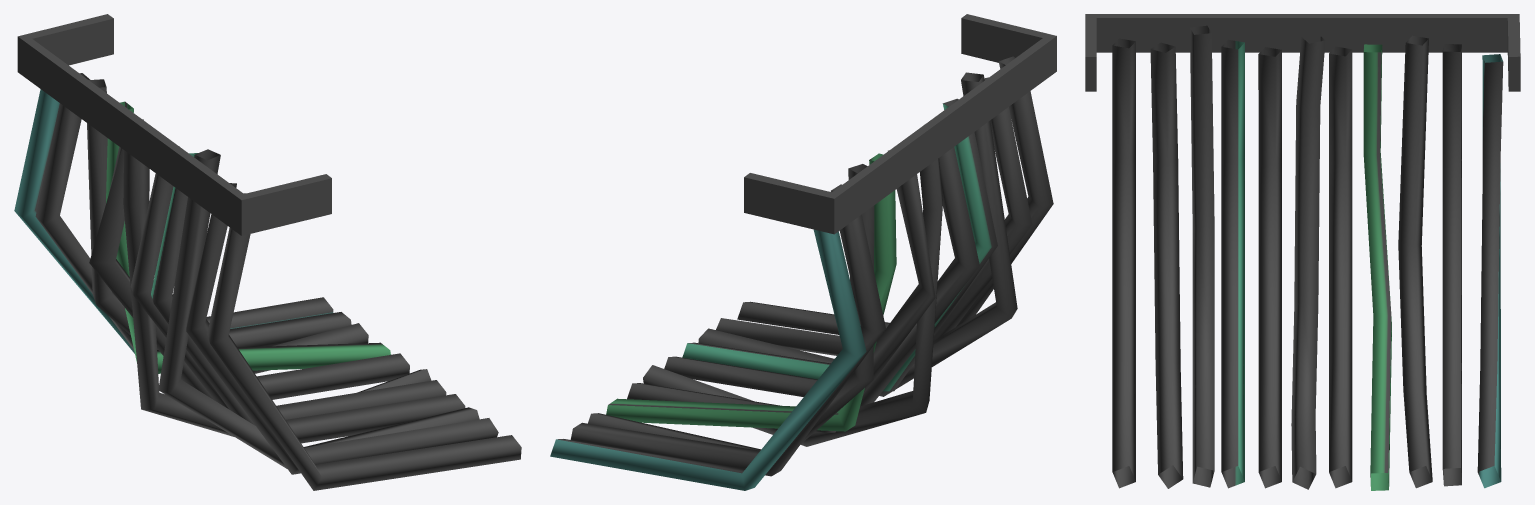
The model's file is Cables_V_H_1x1.fbx.
3 renders of one model, left to right at view 1: azimuth 30°, elevation 25°; view 2: azimuth 150°, elevation 25°; view 3: azimuth 270°, elevation 25°, orthographic. The views are drawn at different scales.
Parts seen in each view (by area): view 1: Cables_V_H_1x1; view 2: Cables_V_H_1x1; view 3: Cables_V_H_1x1.
Part boxes in pixels (bbox=[...]): Cables_V_H_1x1: bbox=[14, 14, 521, 490]; Cables_V_H_1x1: bbox=[550, 14, 1056, 490]; Cables_V_H_1x1: bbox=[1085, 14, 1520, 490].
Size of the model in its own units: 82.13 by 89.36 by 100.
